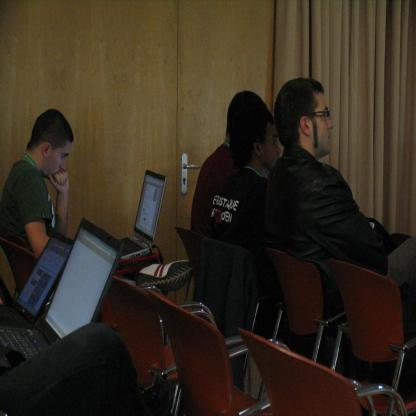board: (0, 220, 122, 358), (0, 232, 74, 328), (120, 170, 168, 259)
